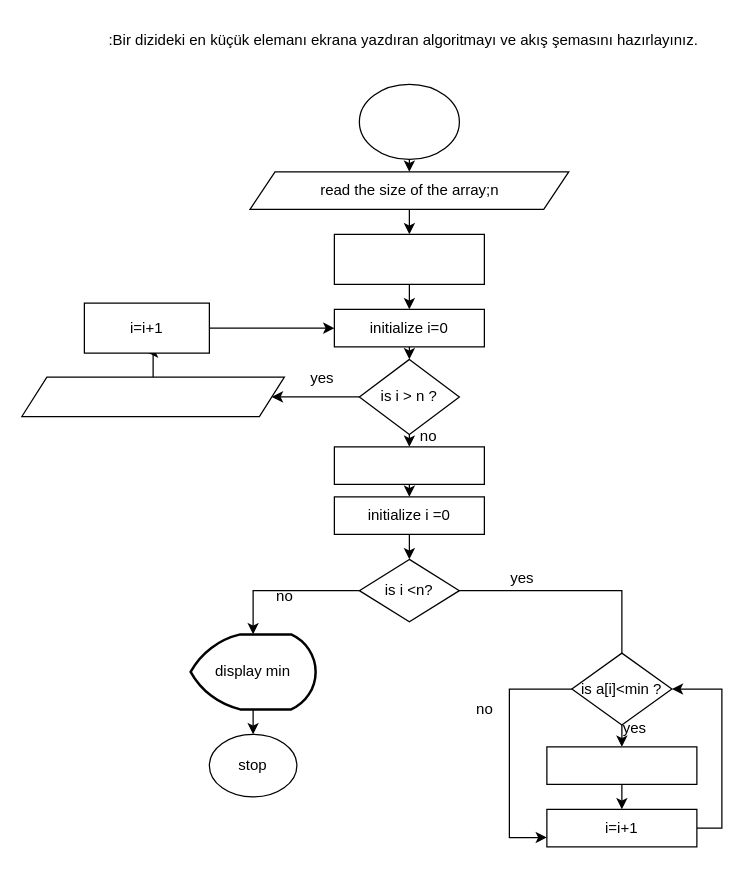
Image size: 754x869. Some labels were removed from this diagram. The shapes that lost their labels are listed below. From the top down, each one's centre as x and y in pixels, then its label:
[408,121]: start
[408,258]: declare an array of size n: a[n]
[152,396]: read the element of the array at position "i"
[408,465]: initialize min =a[0]
[621,765]: min =a[i]
